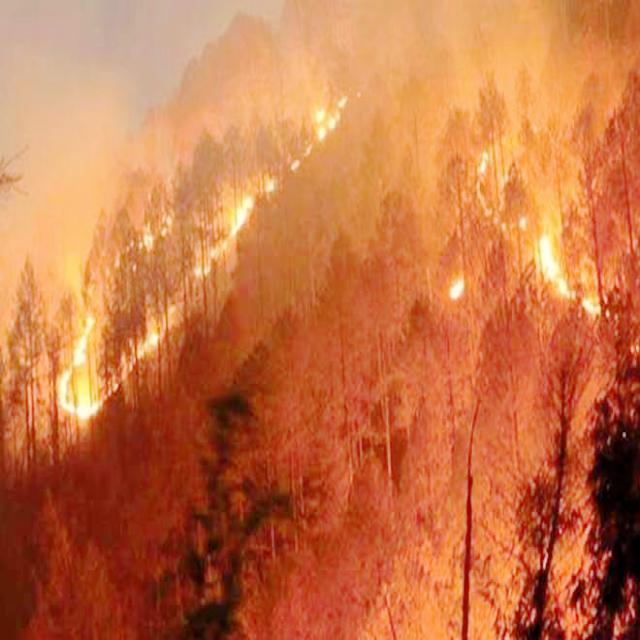api: (60, 324, 93, 442), (222, 191, 265, 249), (538, 235, 569, 301), (137, 311, 175, 363), (310, 103, 342, 151), (448, 274, 464, 309)
asap: (9, 16, 167, 291)
